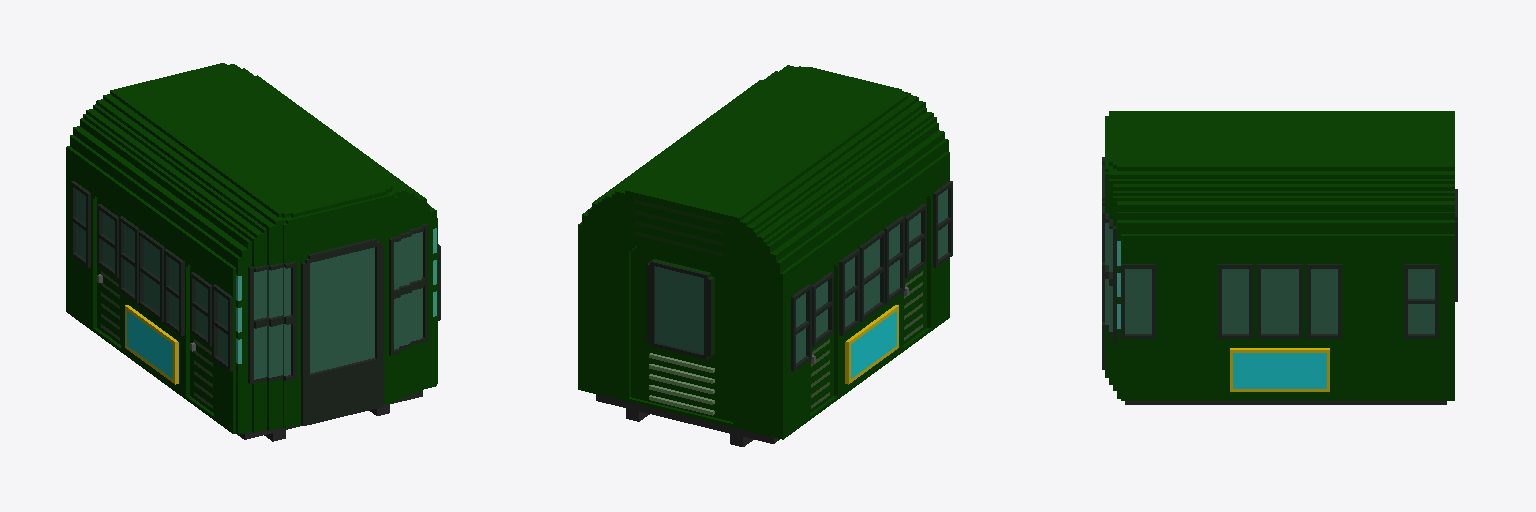
3 views of the same model, side by side, from view 1: azimuth 30°, elevation 25°; view 2: azimuth 150°, elevation 25°; view 3: azimuth 270°, elevation 25° (orthographic).
Parts seen in each view (by area): view 1: object 1; view 2: object 1; view 3: object 1.
Part boxes in pixels (x1,y1,x2,y2): object 1: (66,63,440,441); object 1: (578,65,952,446); object 1: (1102,111,1457,404).
Size of the model in its own units: 6.3 by 6.6 by 9.2.
1 materials, 1 textured.